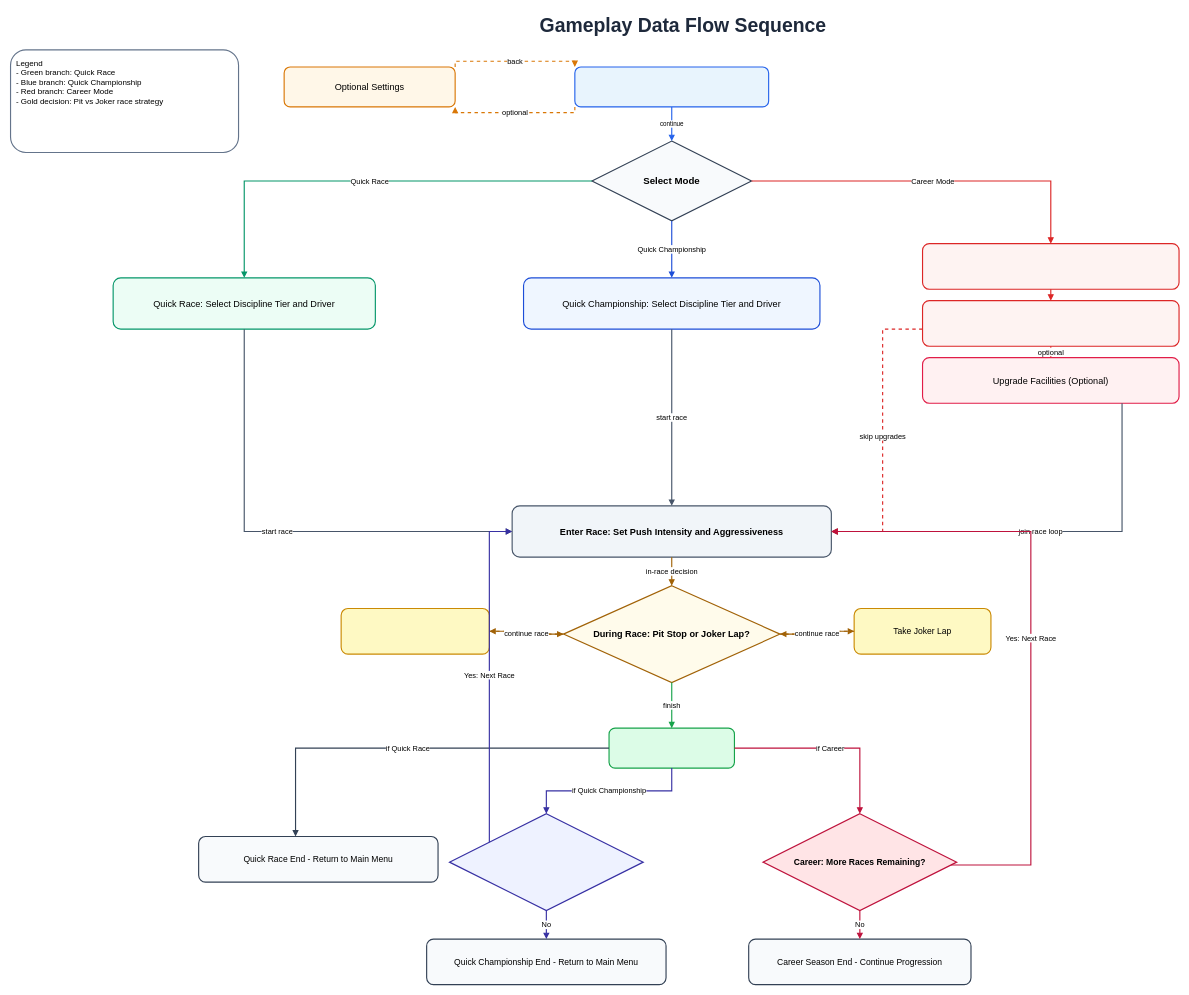
The diagram is 1189 pixels wide and 995 high, and some of its shapes have lost their labels. Each missing label, with the centre of its shape:
Career Mode: Create Team Principal: (x=1050, y=266)
Execute Pit Strategy: (x=415, y=631)
Main Menu: (x=671, y=86)
Quick Championship: More Races Remaining?: (x=546, y=862)
Race Complete: (x=671, y=747)
Select Starting Championship and Team: (x=1050, y=323)
